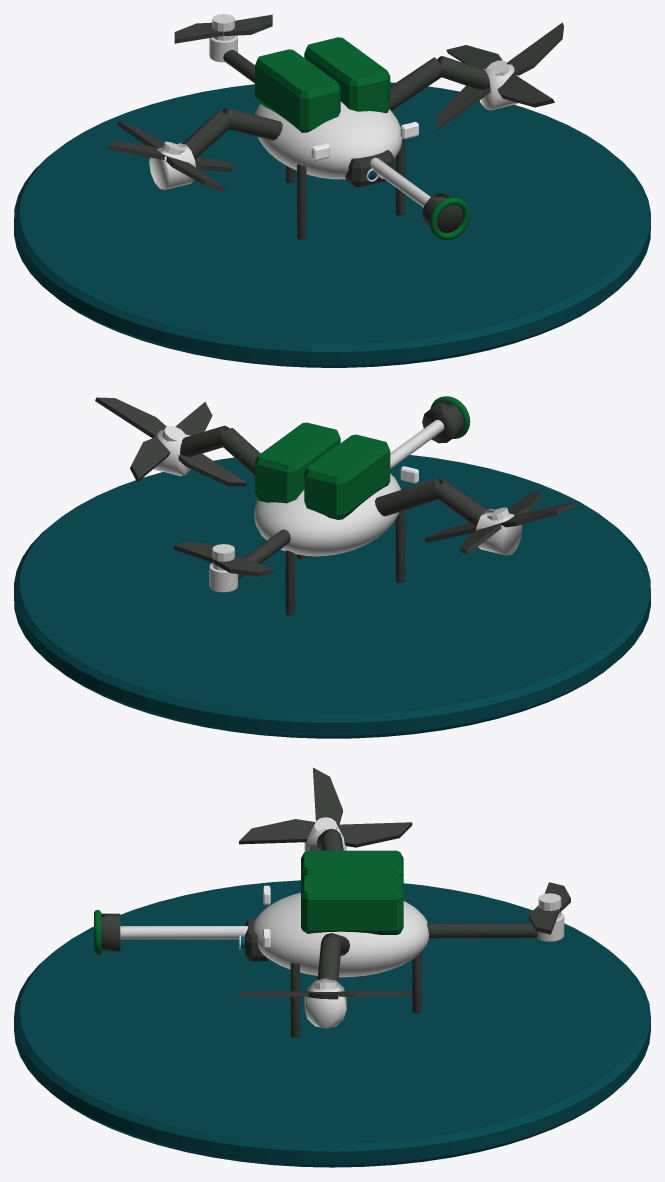
The model's file is voliro-t.glb.
The picture shows the model from 3 angles, top to bottom: view 1: azimuth 30°, elevation 25°; view 2: azimuth 150°, elevation 25°; view 3: azimuth 270°, elevation 25°; orthographic projection.
Visible parts, largest first — view 1: pedestal, body; view 2: pedestal, body; view 3: pedestal, body.
Part boxes in pixels (x1,y1,x2,y2): pedestal: [14, 82, 650, 367]; body: [108, 14, 563, 240]; pedestal: [14, 455, 650, 738]; body: [95, 396, 576, 615]; pedestal: [14, 880, 650, 1167]; body: [94, 767, 570, 1037].
Size of the model in its own units: 4.4 by 1.25 by 4.4.
